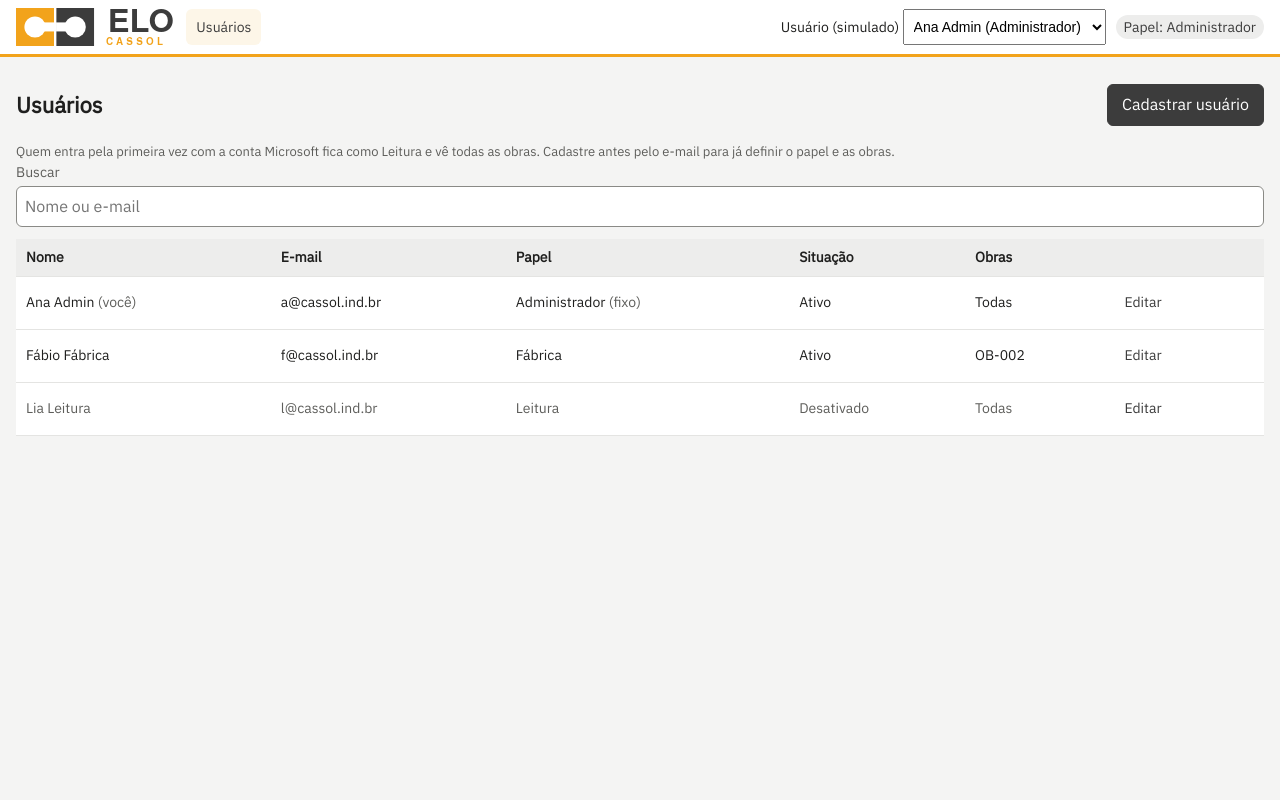
Test: Tela Usuários › mostra o erro do servidor
Click the button with aria-label "Editar Fábio Fábrica" at (1143, 356), box [1112, 338, 1175, 374]
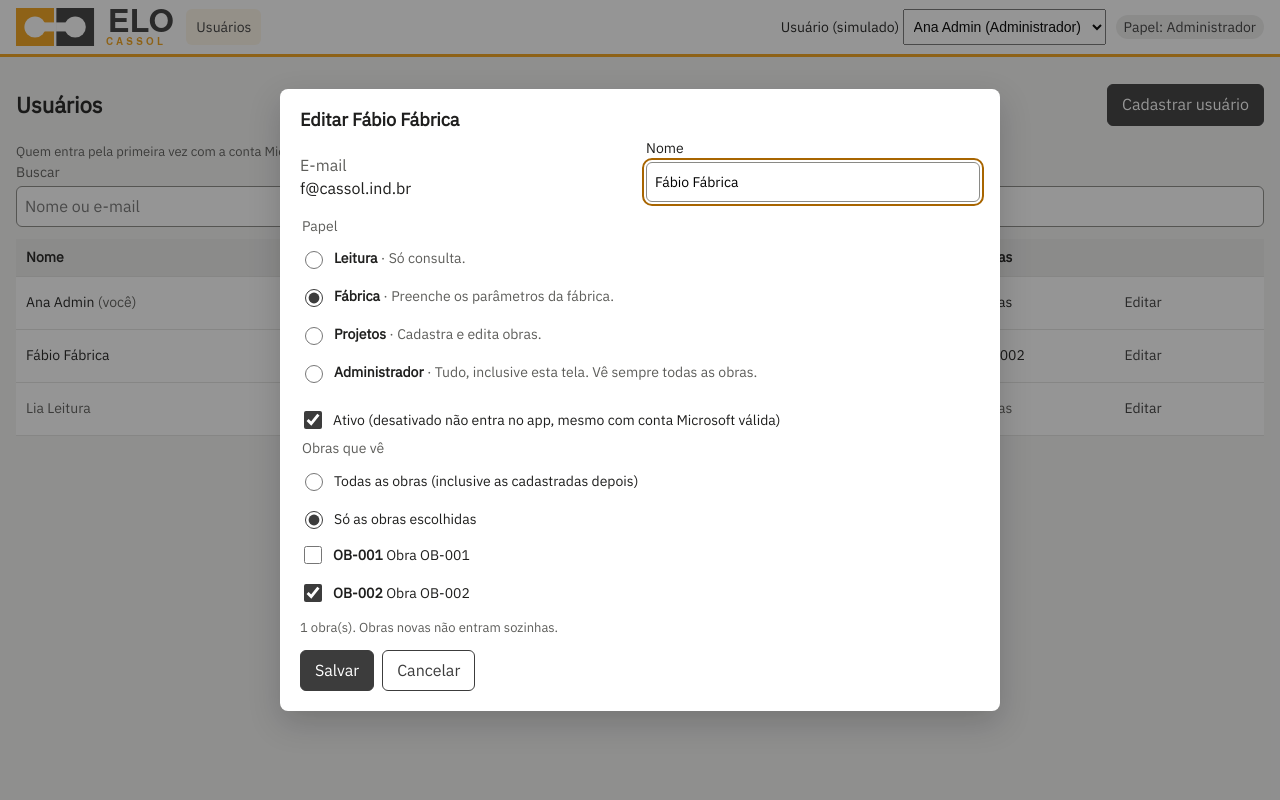
Click the checkbox labelled "Ativo" at (313, 420), box [304, 411, 322, 429]
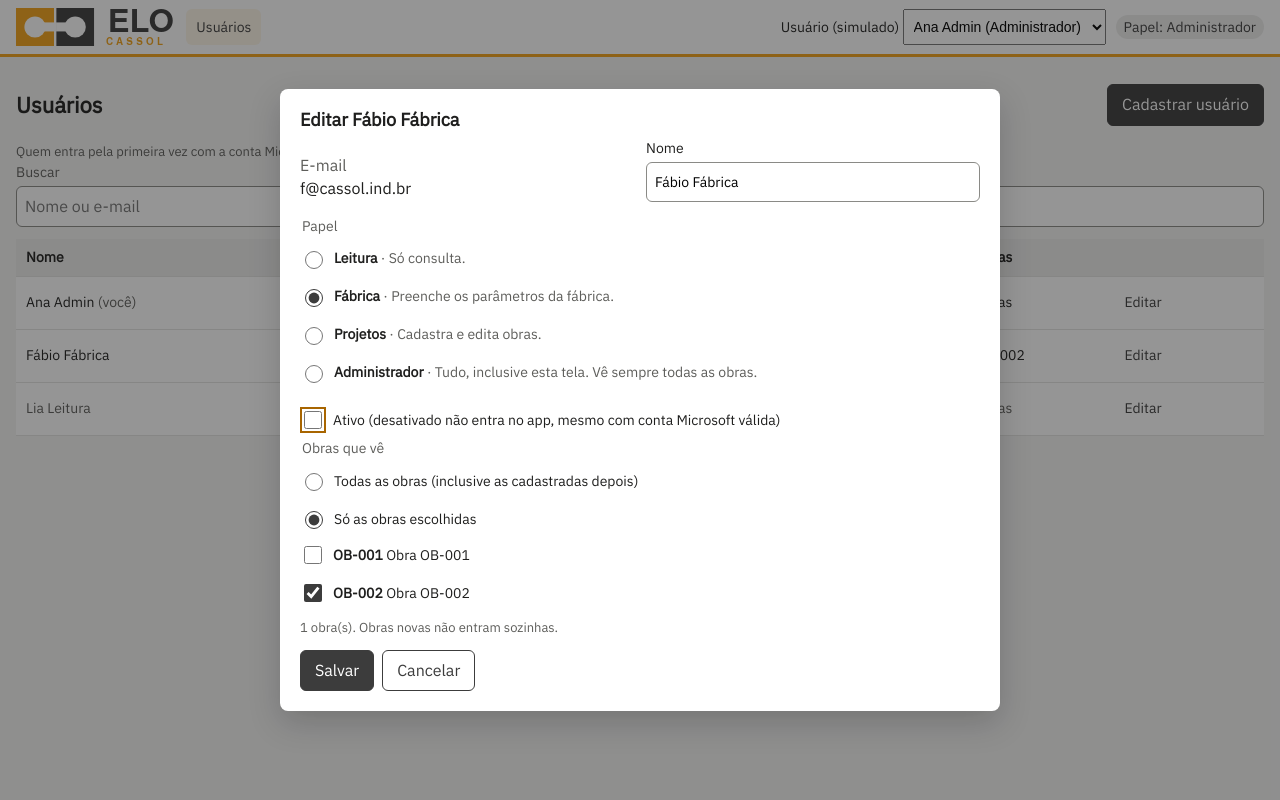
Click the button "Salvar" at (337, 670), box [300, 650, 374, 691]
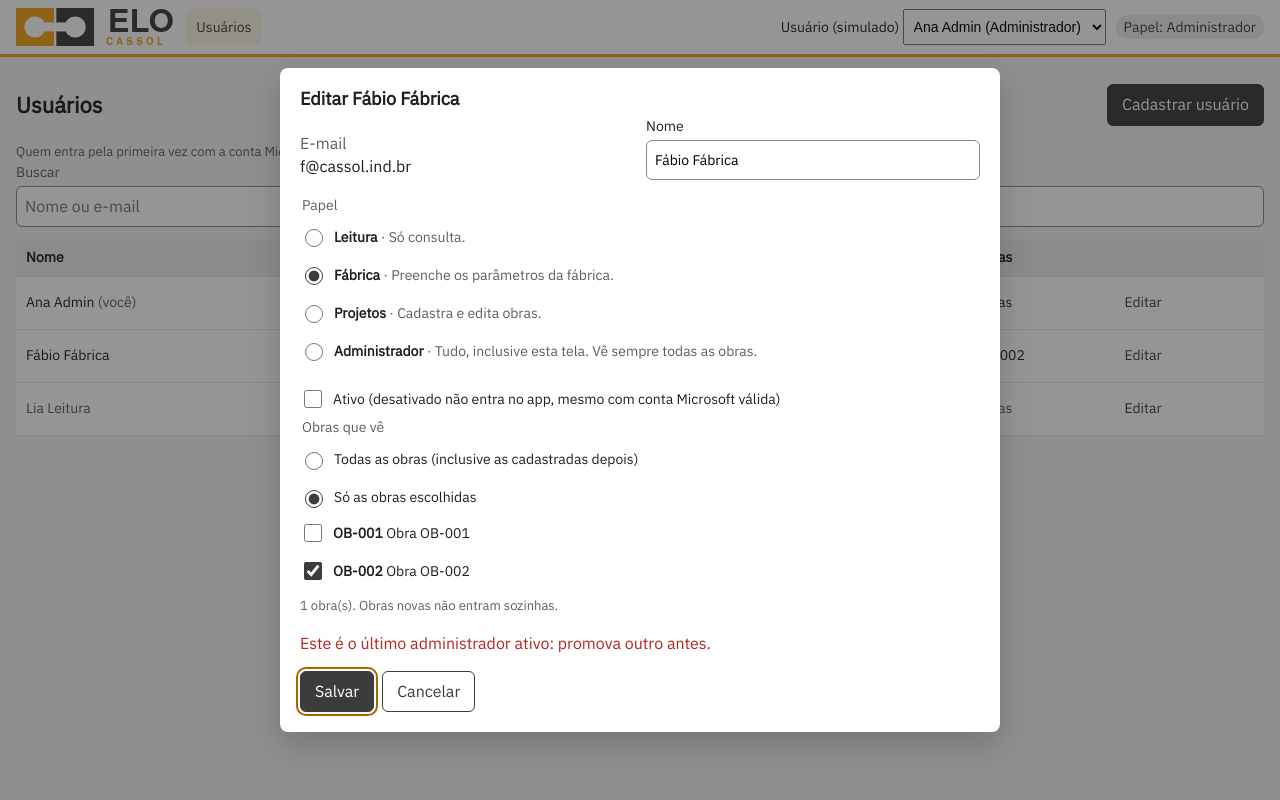
Expected: the message shows "último administrador ativo", [300, 633, 711, 653]
